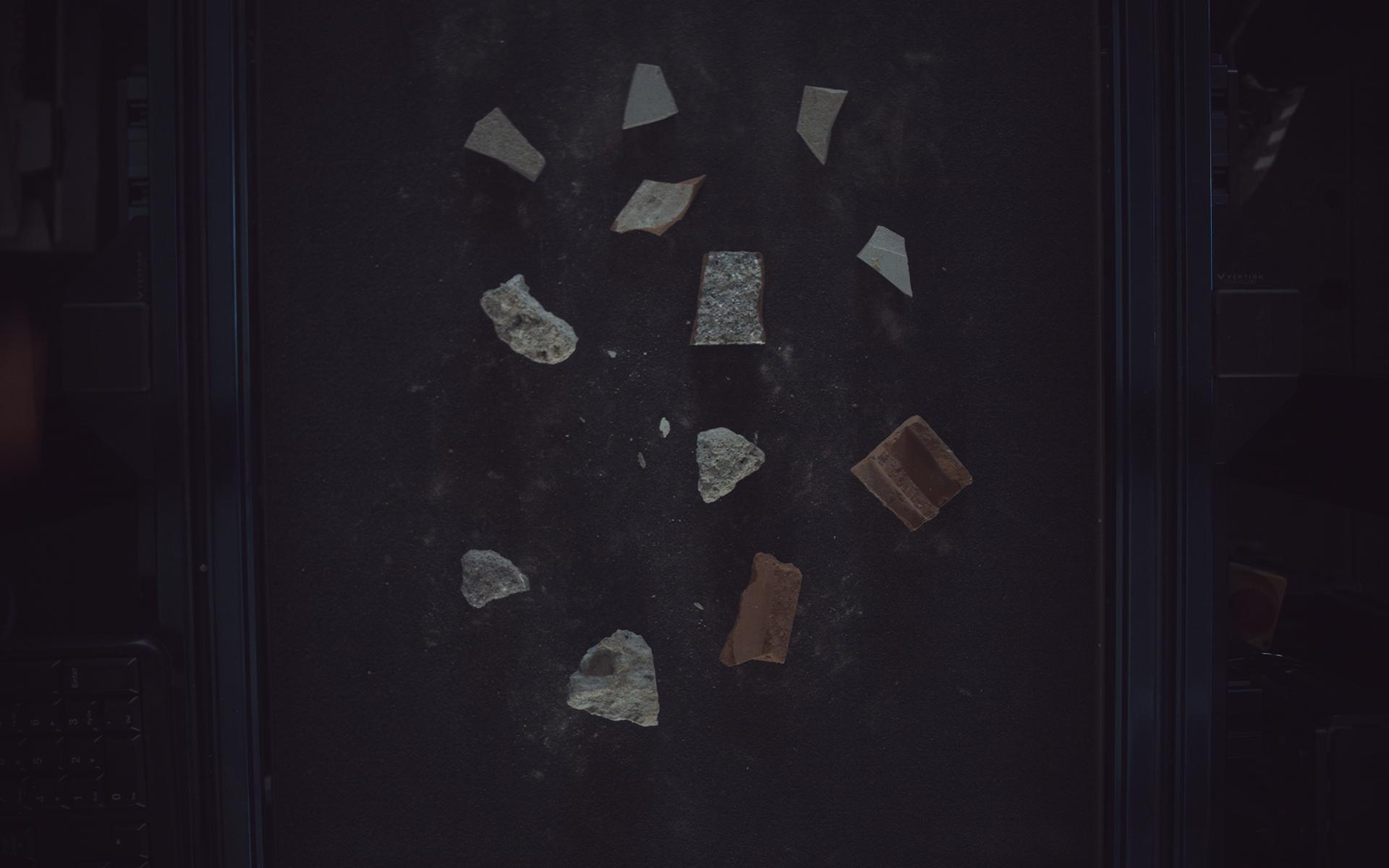brick: (853, 416, 974, 532), (721, 553, 804, 668), (691, 251, 766, 345), (612, 175, 707, 236)
concrete: (568, 631, 660, 728), (480, 273, 578, 364), (698, 427, 766, 503), (462, 550, 530, 609)
tile: (465, 106, 546, 181), (798, 85, 849, 163), (859, 225, 914, 296), (623, 62, 679, 128)
